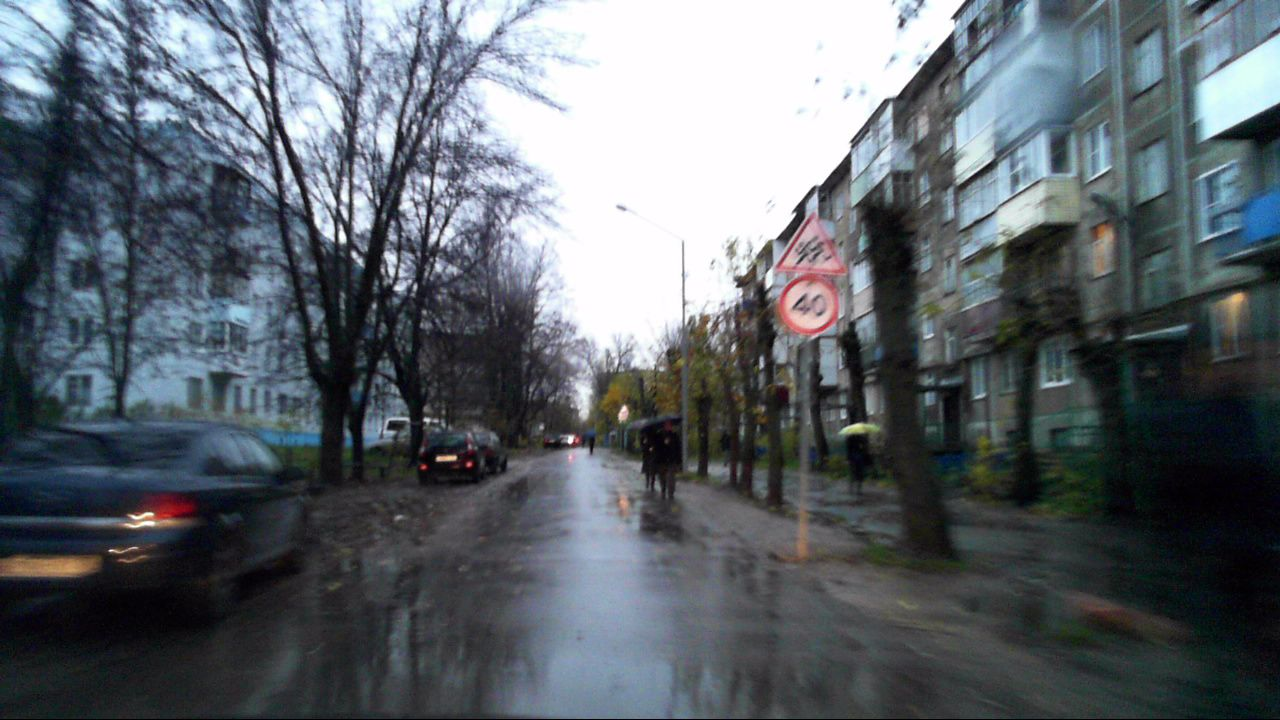speed_warning_40: (779, 274, 837, 335)
